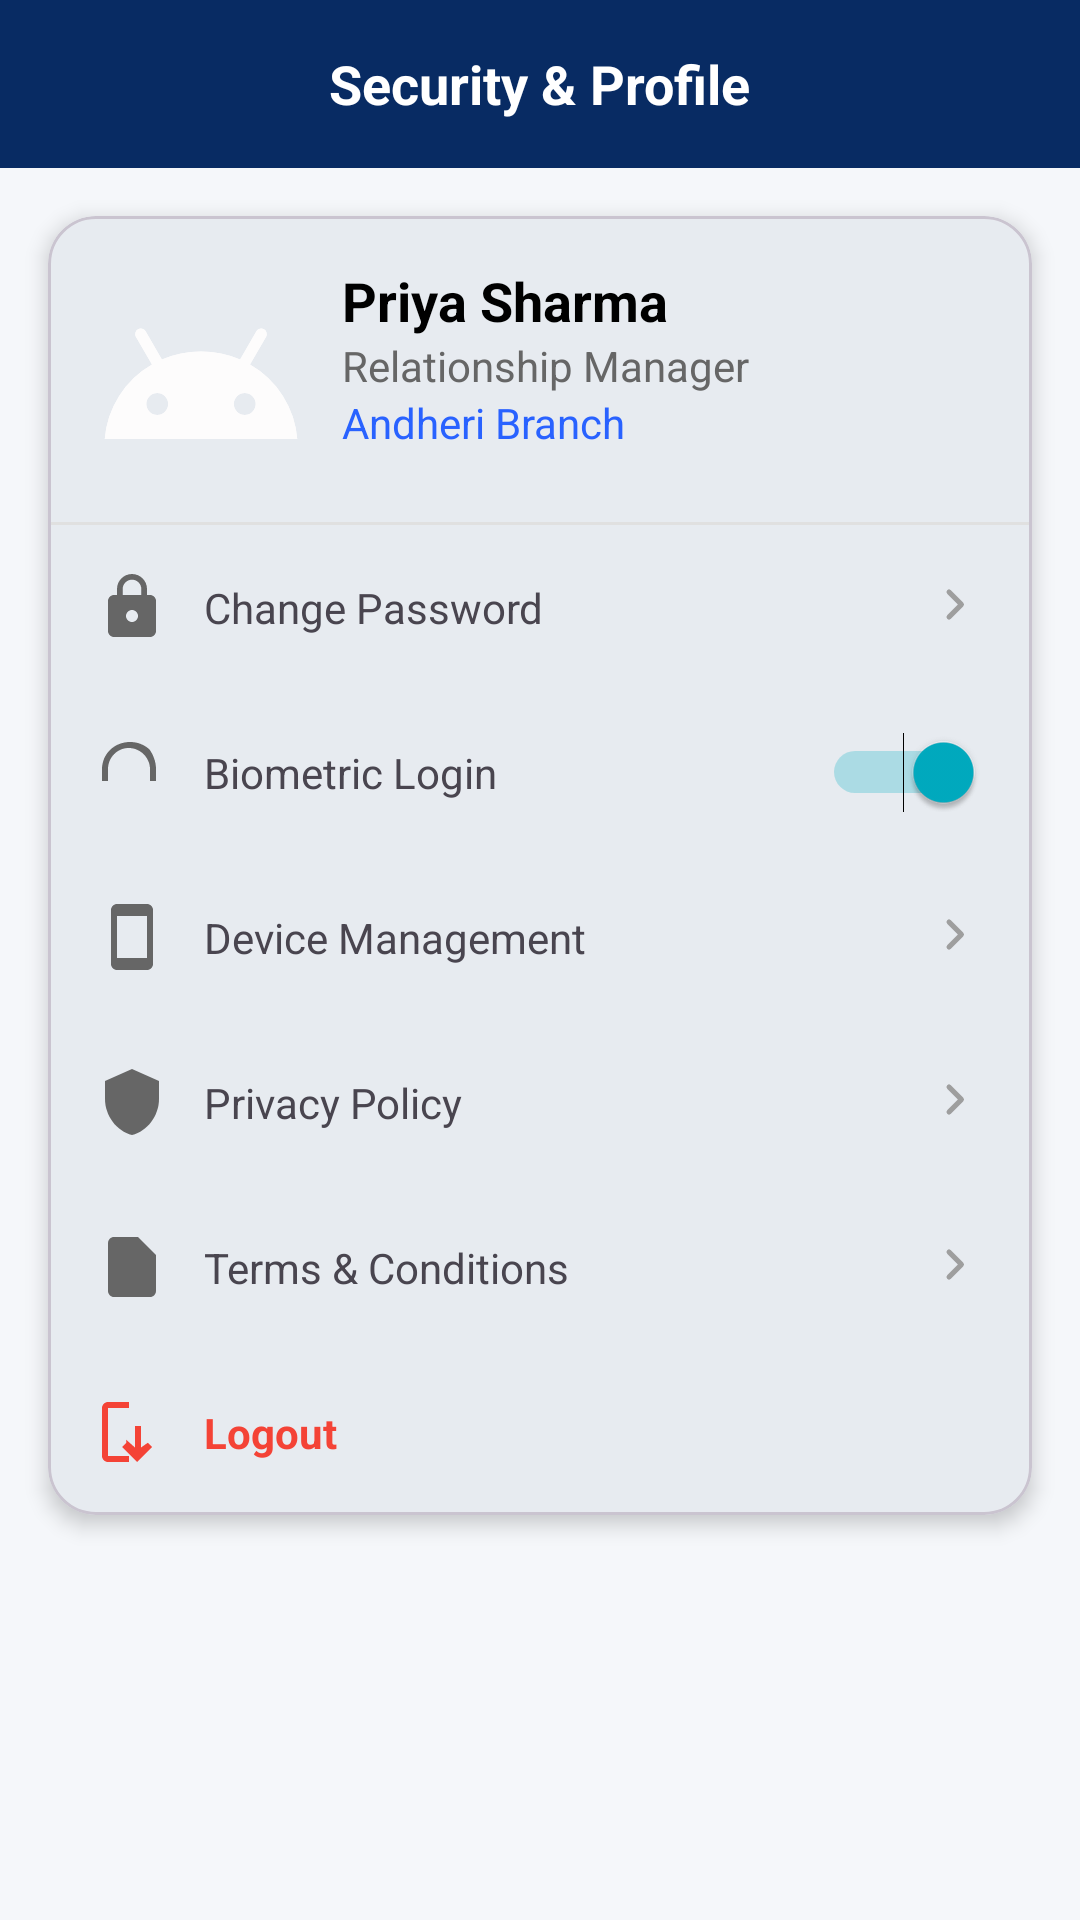

Screen size 1080×1920. Icon name, then its center in pixels as (x=x, y=y):
chevron right: (x=955, y=604), (x=955, y=934), (x=955, y=1099), (x=955, y=1264)
lock: (x=132, y=605)
mobile: (x=132, y=937)
